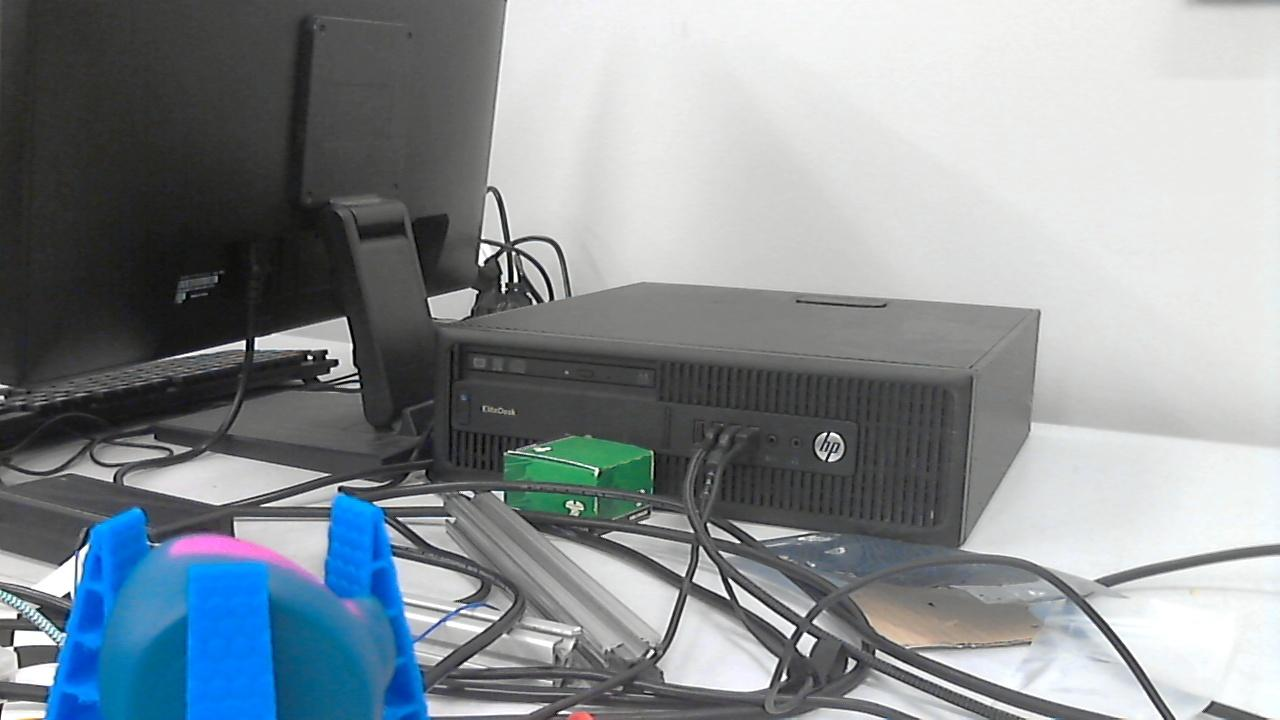Object rubber duck - Material rubber -Color blue - Pdfname BWuUnwTLudUE: (157, 521, 343, 589)
